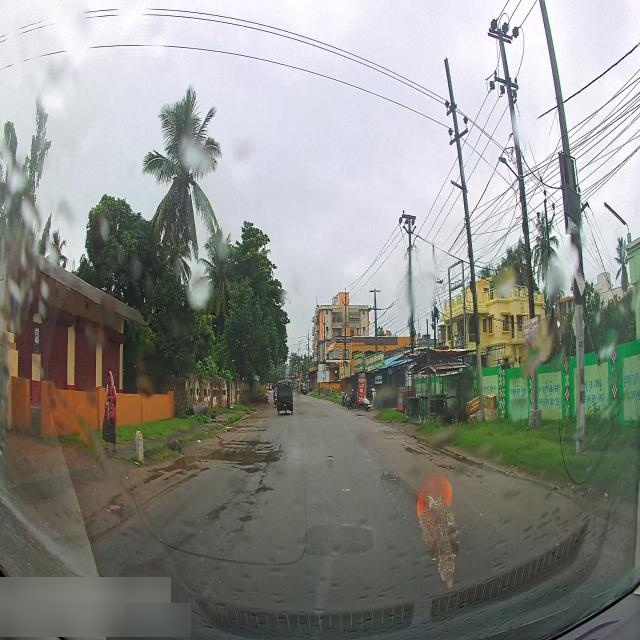pothole: (182, 436, 294, 490), (402, 440, 476, 492)
